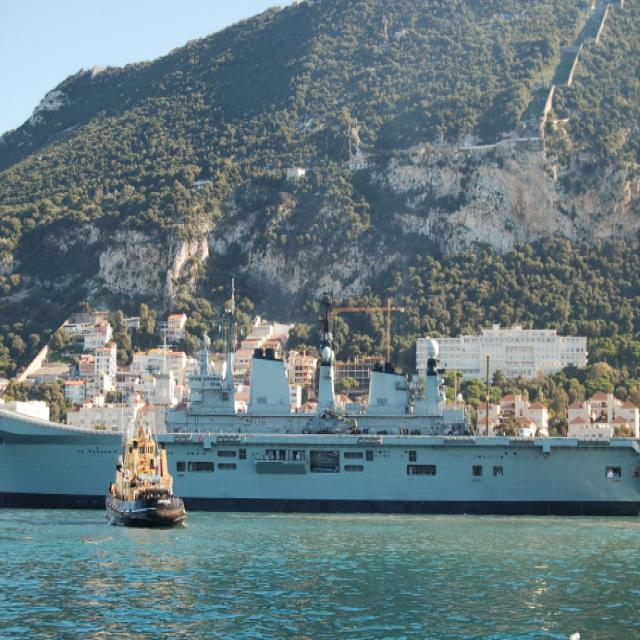Portanaves: (1, 283, 640, 516)
